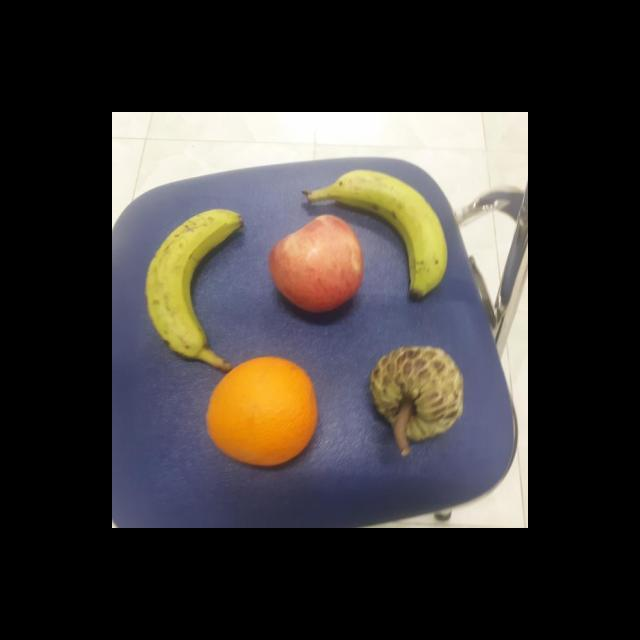Sakya fruit: (368, 344, 468, 461)
apple: (266, 212, 364, 316)
banana: (144, 204, 252, 375)
orange: (204, 354, 326, 469)
